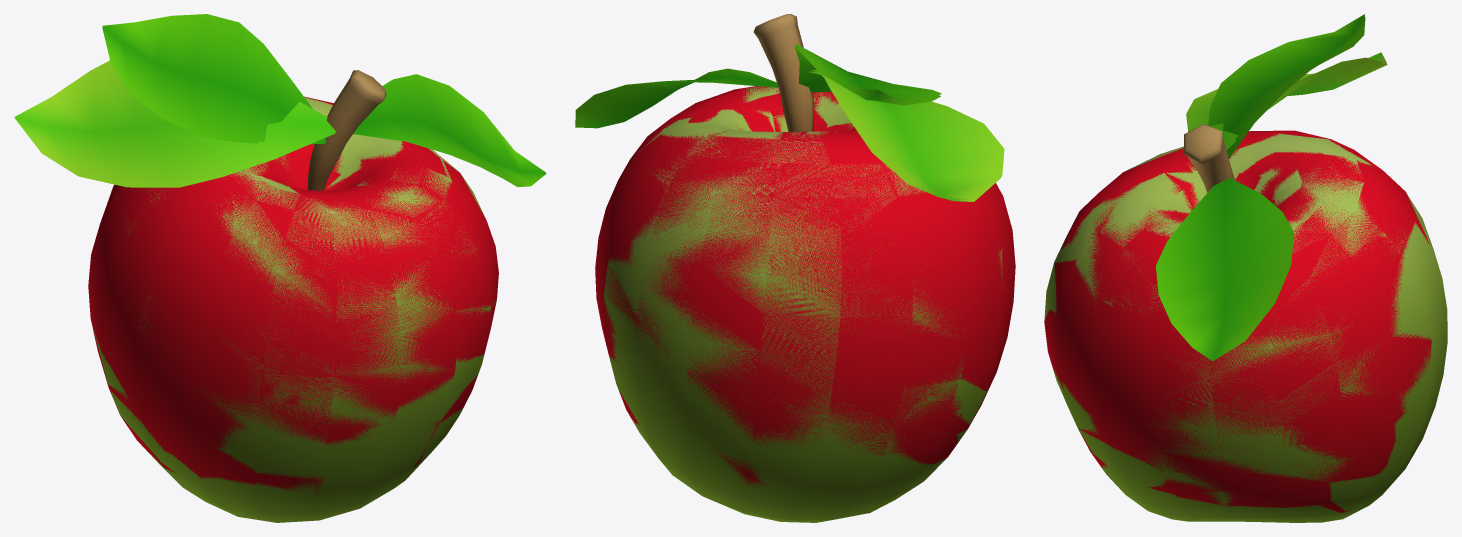
Rendered from Apples.fbx.
The picture shows the model from 3 angles, left to right: view 1: azimuth 30°, elevation 25°; view 2: azimuth 150°, elevation 25°; view 3: azimuth 270°, elevation 25°; orthographic projection. The views are drawn at different scales.
Visible parts, largest first — view 1: Red-apple, Green-apple; view 2: Red-apple, Green-apple; view 3: Red-apple, Green-apple.
Part boxes in pixels (box(x1,y1,x2,y2)): Red-apple: box(14, 60, 498, 495); Green-apple: box(91, 14, 546, 522); Red-apple: box(595, 14, 1015, 513); Green-apple: box(575, 14, 1003, 522); Red-apple: box(1044, 52, 1431, 512); Green-apple: box(1044, 14, 1447, 522).
Bounding box in the file's own units: 1.15 × 1.13 × 0.9303.
